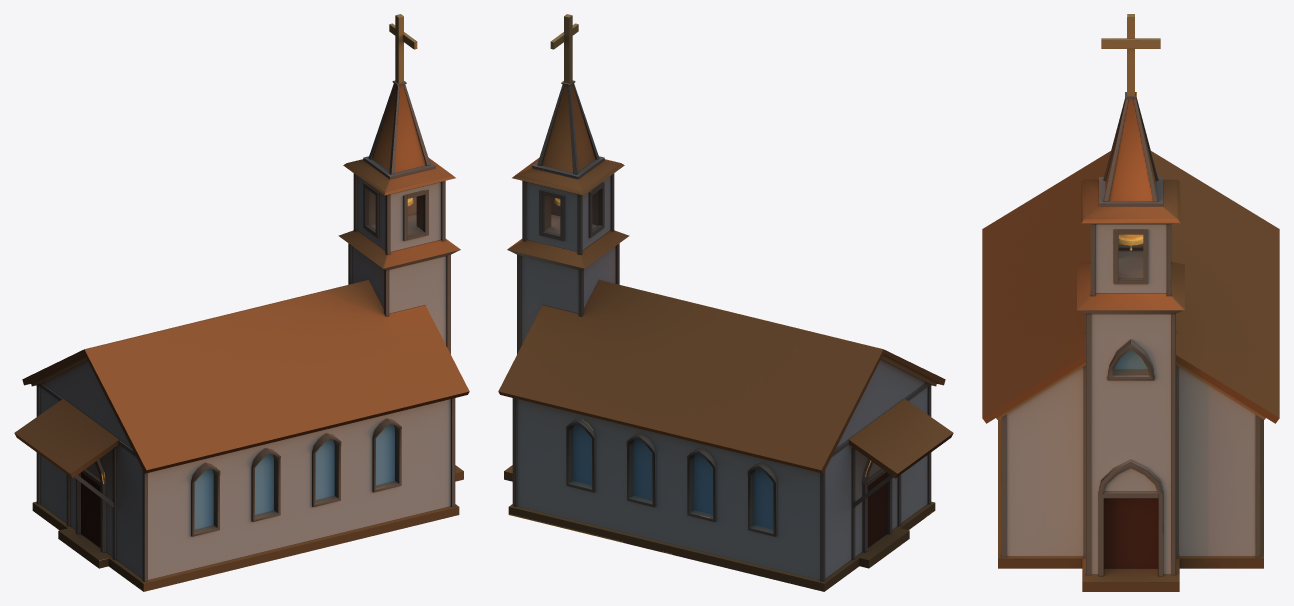
The picture shows the model from 3 angles, left to right: view 1: azimuth 30°, elevation 25°; view 2: azimuth 150°, elevation 25°; view 3: azimuth 270°, elevation 25°; orthographic projection. The views are drawn at different scales.
Parts seen in each view (by area): view 1: church; view 2: church; view 3: church.
Boxes of the visible parts, left/top/right/bottom form: church: left=14, top=14, right=469, bottom=591; church: left=498, top=14, right=953, bottom=591; church: left=982, top=14, right=1279, bottom=591.
Bounding box in the file's own units: 1306 × 1429 × 700.
Materials: 1 (1 with a texture image).
